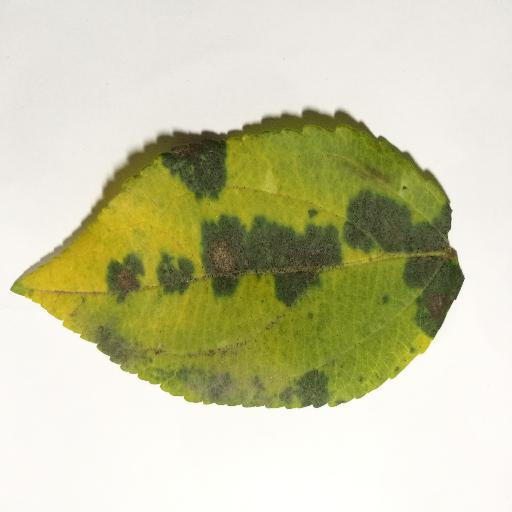Brown_Spot: (94, 161, 467, 330)
